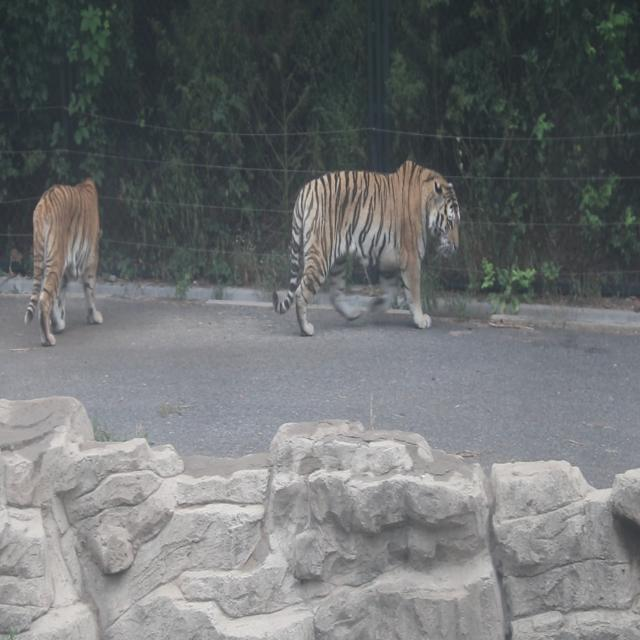Tiger: (274, 139, 485, 349), (19, 159, 117, 355)
